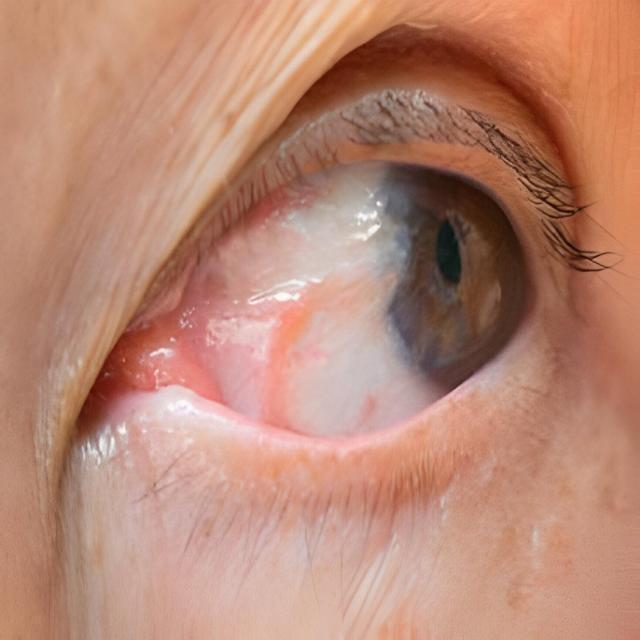Pterygium: (148, 156, 438, 447)
